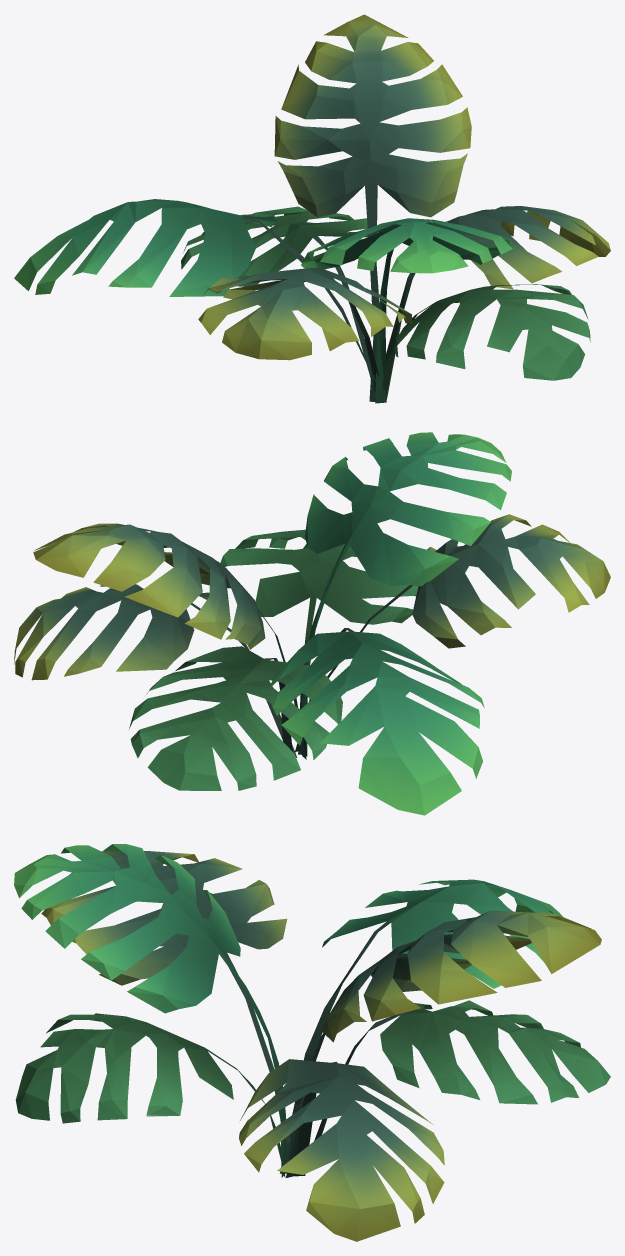
The model's file is Jungle_RoundLeaf_B.fbx.
3 renders of one model, top to bottom at view 1: azimuth 30°, elevation 25°; view 2: azimuth 150°, elevation 25°; view 3: azimuth 270°, elevation 25°, orthographic. The views are drawn at different scales.
Parts seen in each view (by area): view 1: Jungle_RoundLeaf_B; view 2: Jungle_RoundLeaf_B; view 3: Jungle_RoundLeaf_B.
Boxes of the visible parts, left/top/right/bottom form: Jungle_RoundLeaf_B: left=14, top=14, right=610, bottom=403; Jungle_RoundLeaf_B: left=14, top=432, right=610, bottom=815; Jungle_RoundLeaf_B: left=14, top=844, right=610, bottom=1241.
Bounding box in the file's own units: 3.65 × 1.86 × 3.25.
Materials: 1 (1 with a texture image).
